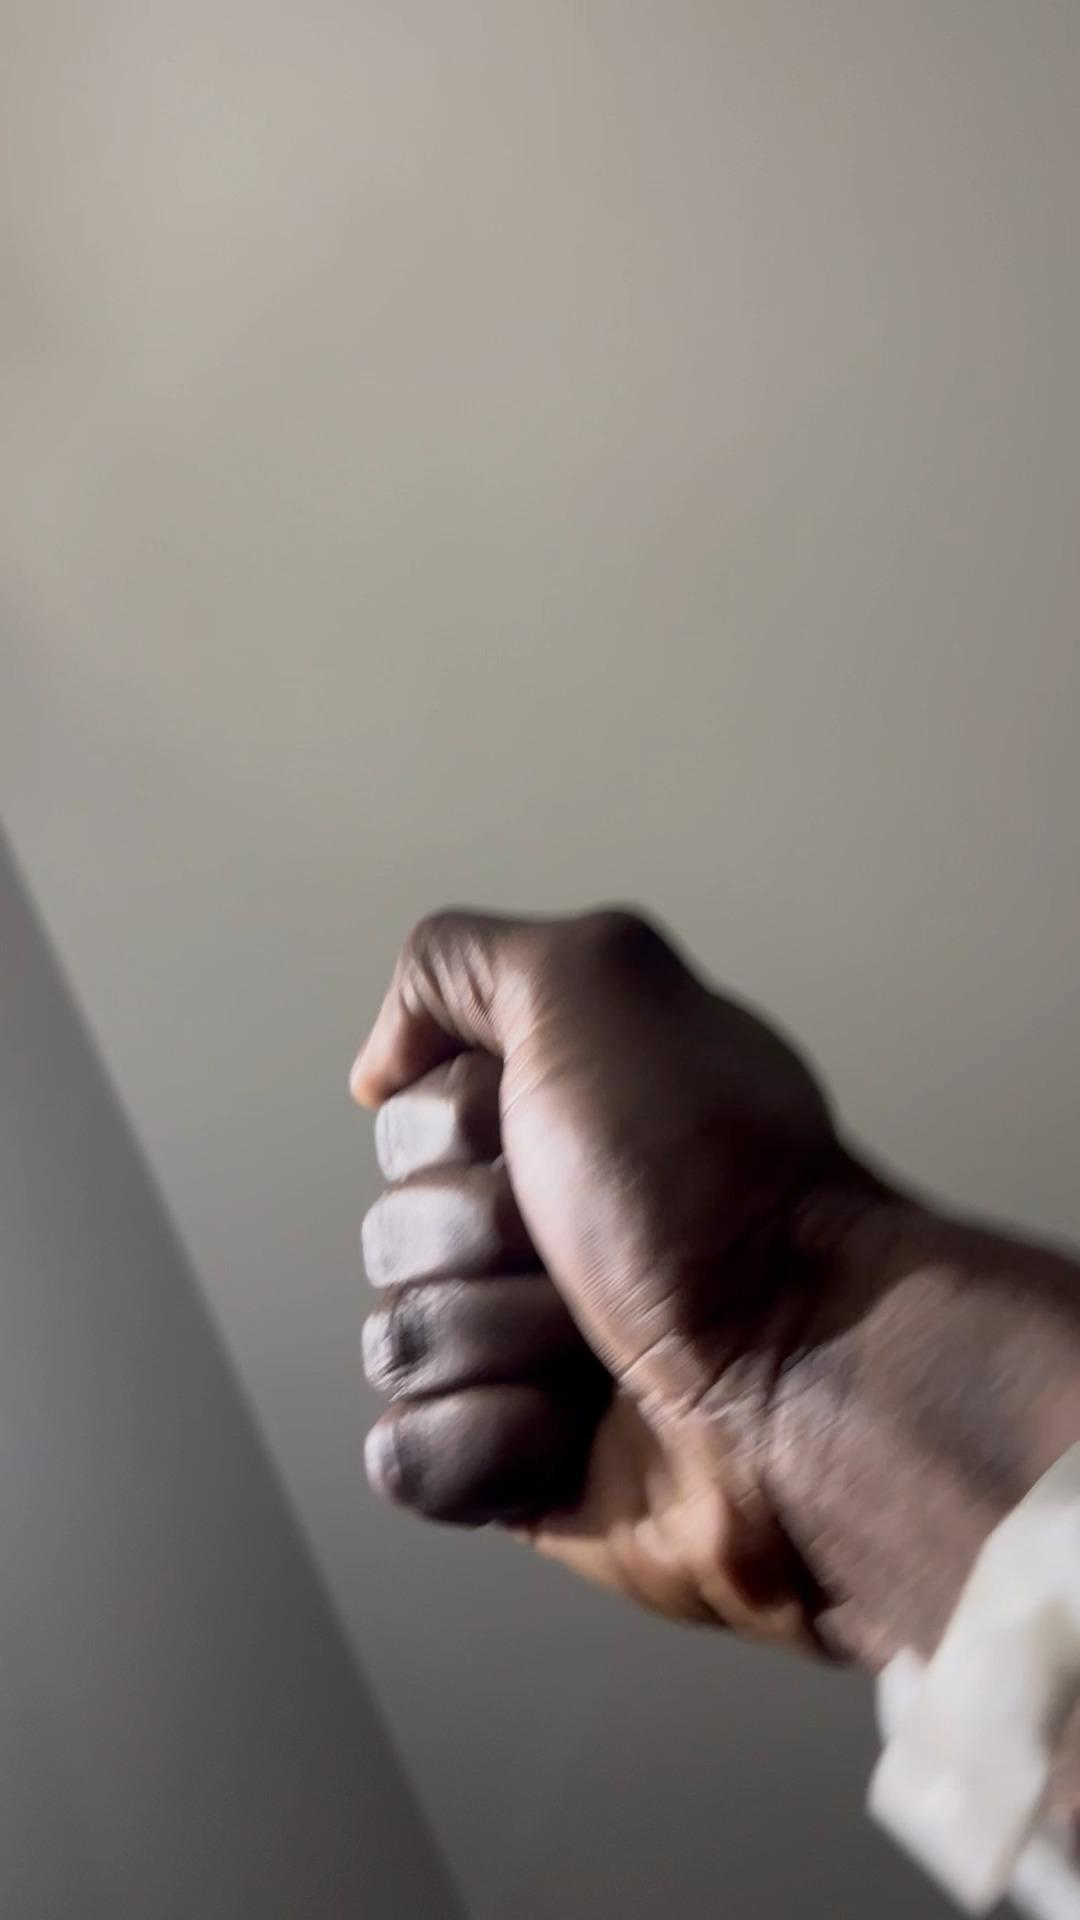Rock: (347, 897, 848, 1643)
